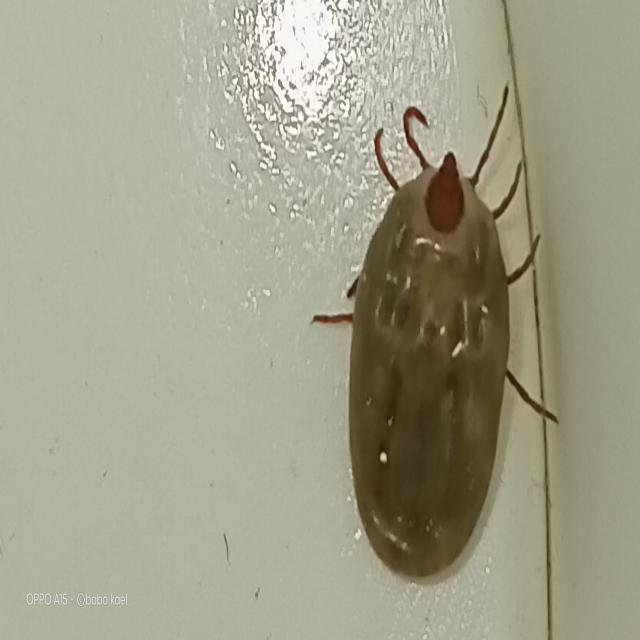Rhipicephalus Sanguineus-F-Fed: (315, 83, 562, 580)
